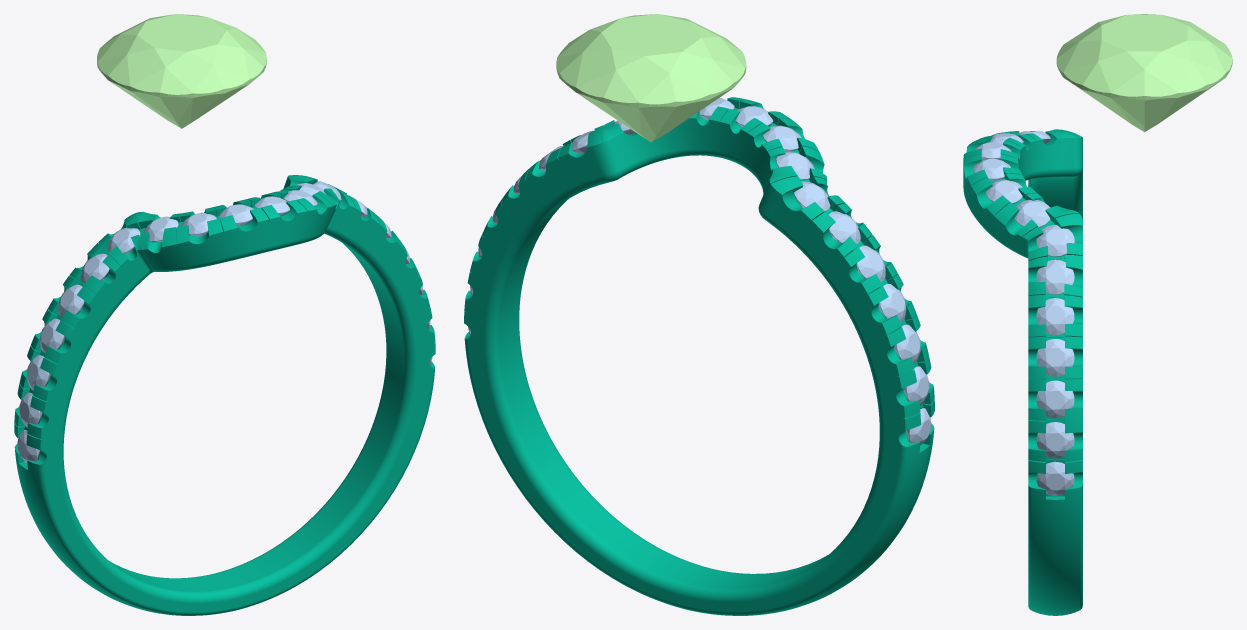
The picture shows the model from 3 angles, left to right: view 1: azimuth 30°, elevation 25°; view 2: azimuth 150°, elevation 25°; view 3: azimuth 270°, elevation 25°; orthographic projection. The views are drawn at different scales.
Parts seen in each view (by area): view 1: band(front).3dm, Diamond_Round (×3); view 2: band(front).3dm, Diamond_Round (×7); view 3: band(front).3dm, Diamond_Round (×12).
Part boxes in pixels (x1=…): band(front).3dm: x1=14, y1=175, x2=435, y2=615; Diamond_Round (×3): x1=40, y1=14, x2=266, y2=353; band(front).3dm: x1=464, y1=97, x2=934, y2=615; Diamond_Round (×7): x1=556, y1=14, x2=920, y2=364; band(front).3dm: x1=963, y1=129, x2=1082, y2=615; Diamond_Round (×12): x1=973, y1=14, x2=1232, y2=495.
Size of the model in its own units: 2.78 by 3.55 by 1.55.
